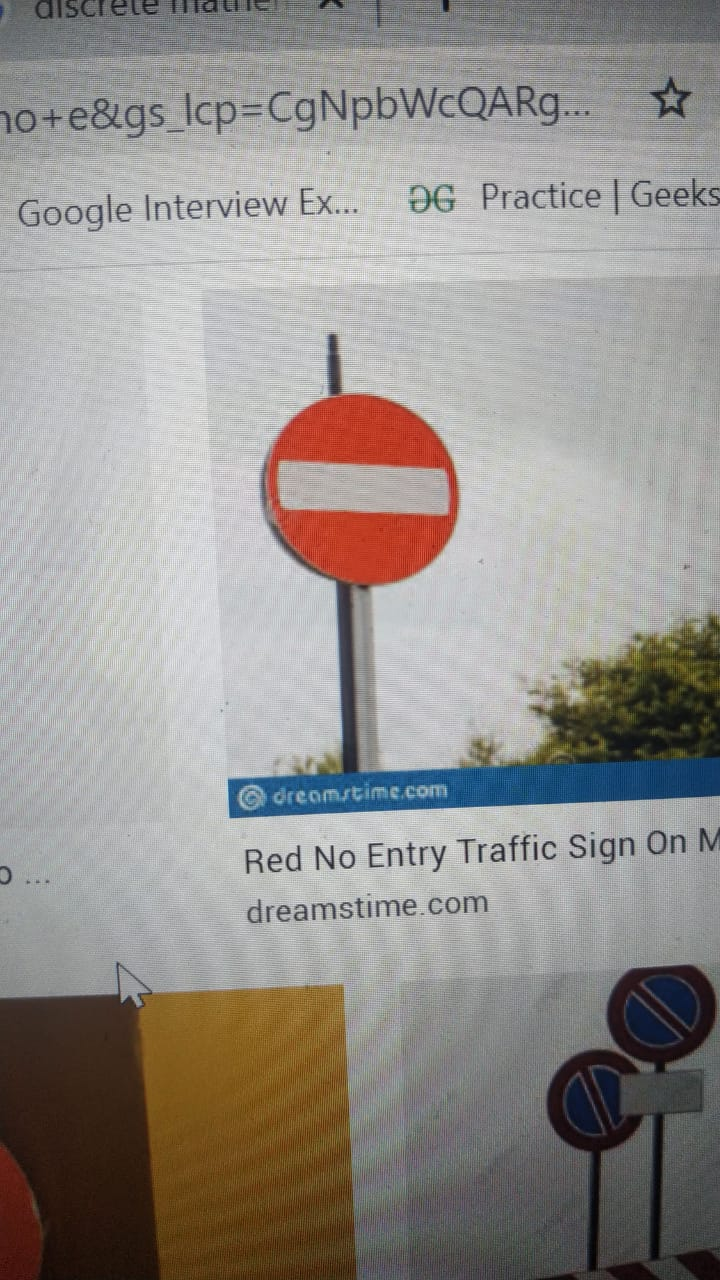NO ENTRY: (256, 369, 471, 618)
